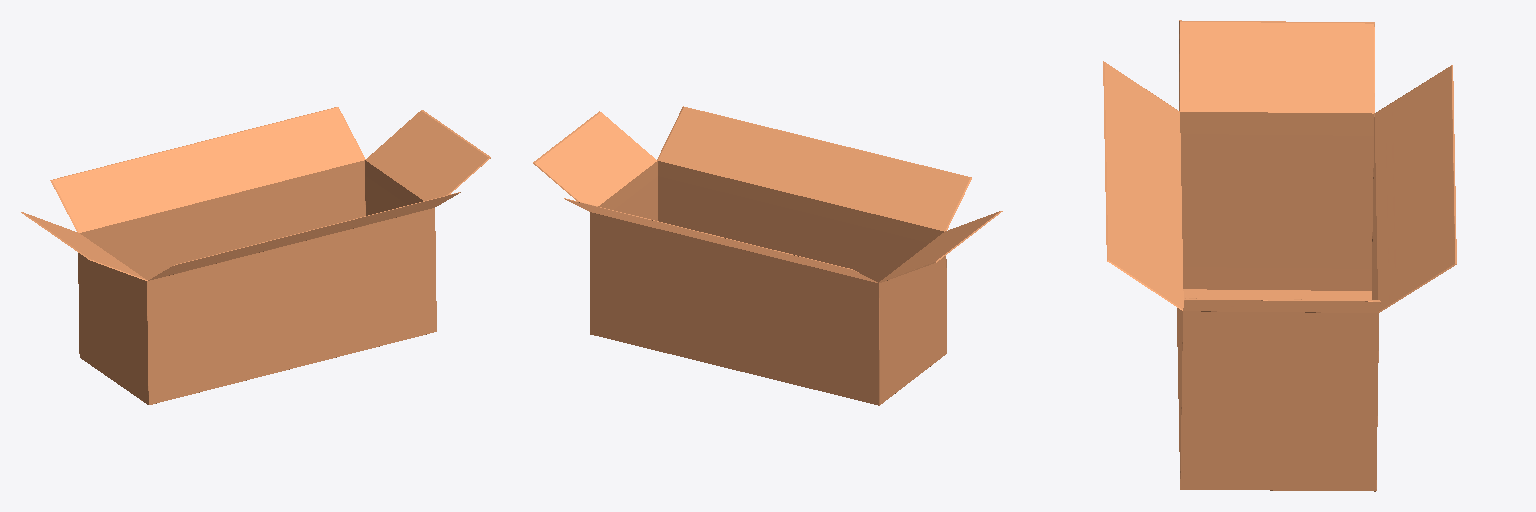
URDF robot description (table):
<?xml version="0.0" ?>
<robot name="table">
  <link name="tableLink">
  <contact>
      <lateral_friction value="1"/>
  </contact>
    <inertial>
      <origin rpy="0 0 0" xyz="0 0 0"/>
       <mass value="0.01"/>
       <inertia ixx="1e-3" ixy="0" ixz="0" iyy="1e-3" iyz="0" izz="1e-3"/>
    </inertial>
    <visual>
      <origin rpy="0 0 0" xyz="0 0 0"/>
      <geometry>
	<mesh filename="box.obj" scale="1 1 1"/>
      </geometry>
       <material name="black">
        <color rgba="1 0.7 0.5 1"/>
      </material>
    </visual>
    <collision>
      <origin rpy="0 0 0" xyz="0 0 0"/>
      <geometry>
	 <mesh filename="box2.obj" scale="1 1 1"/>
      </geometry>
    </collision>

  </link>
</robot>

--- Render facts (derived) ---
3 views of the same robot in one strip: view 1: azimuth 30°, elevation 25°; view 2: azimuth 150°, elevation 25°; view 3: azimuth 270°, elevation 25° (orthographic).
Model table with 1 links and 0 joints (none), rooted at tableLink, posed all joints at 0.
Links seen in each view (by area): view 1: tableLink; view 2: tableLink; view 3: tableLink.
Link boxes in pixels (left/top/right/bottom): tableLink: left=21, top=107, right=490, bottom=404; tableLink: left=533, top=106, right=1002, bottom=405; tableLink: left=1103, top=20, right=1456, bottom=491.
Size in the robot's own frame: 1.08 by 0.5702 by 0.4172 metres.
Meshes: 1 distinct files referenced, 1 mesh visuals loaded (1 OBJ).